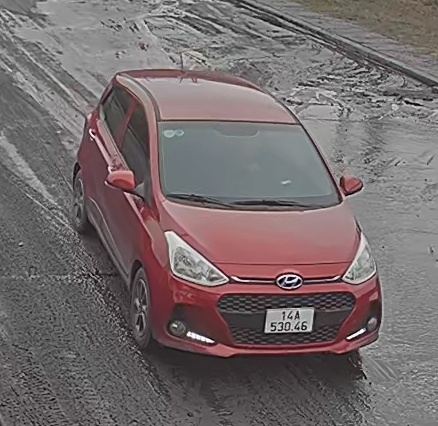vehicle plate: (265, 305, 311, 334)
